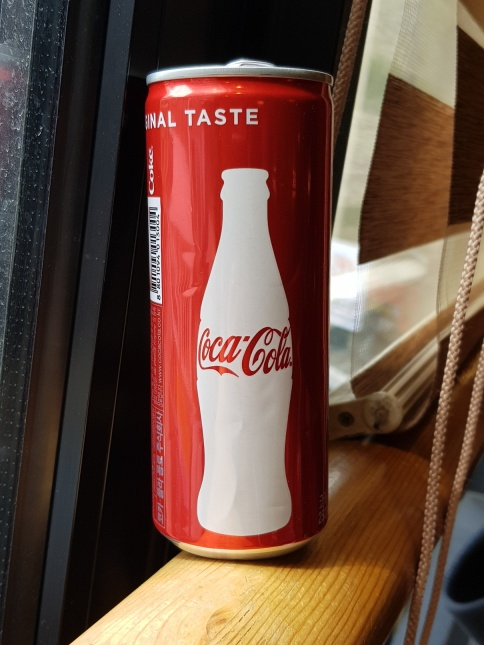Can: (140, 57, 340, 563)
